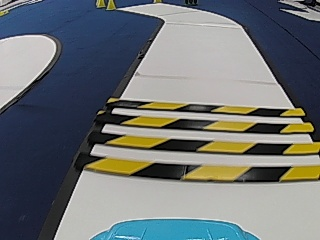bump: (84, 93, 320, 190)
